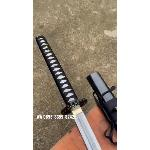Pedang: (41, 39, 104, 150)
